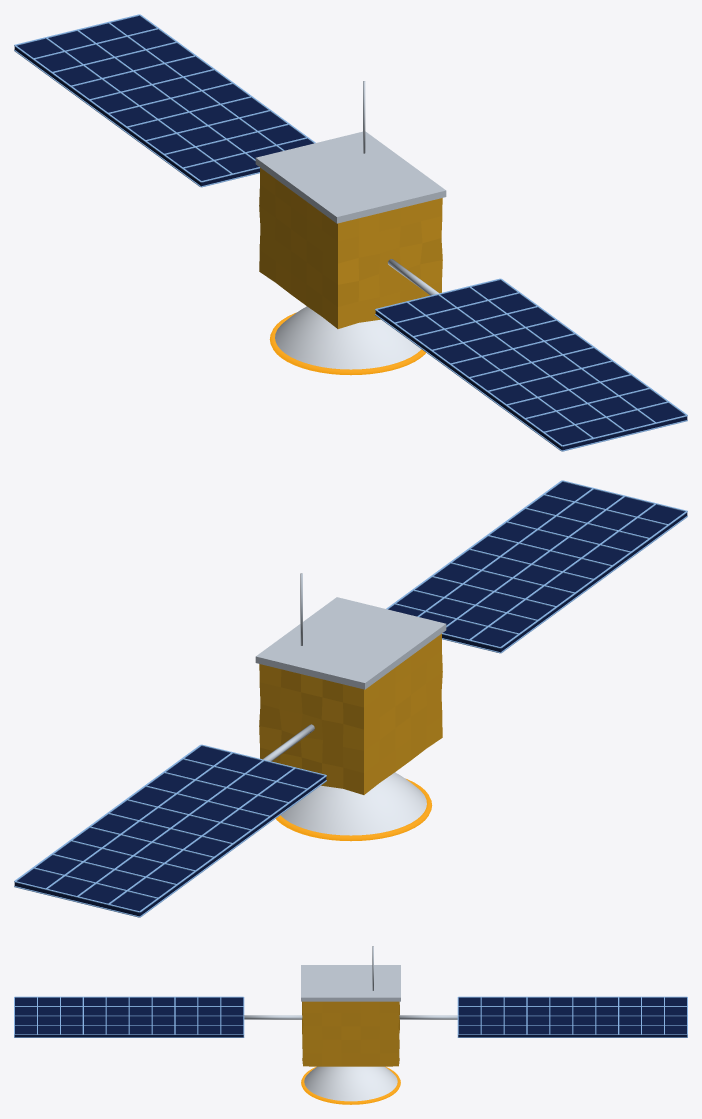
The model's file is leo_satellite.glb.
3 views of the same model, one above another, from view 1: azimuth 30°, elevation 25°; view 2: azimuth 150°, elevation 25°; view 3: azimuth 270°, elevation 25° (orthographic). The views are drawn at different scales.
Parts seen in each view (by area): view 1: SolarWings, GoldFoilCore, SolarCellGrid, TopPlate, TransponderDish, TransponderGlow, Booms; view 2: SolarWings, GoldFoilCore, SolarCellGrid, TopPlate, TransponderDish, TransponderGlow, Booms; view 3: SolarWings, GoldFoilCore, SolarCellGrid, TopPlate, TransponderDish, Booms, TransponderGlow.
Part boxes in pixels (left/top/right/bottom): SolarWings: left=14, top=16, right=687, bottom=450; GoldFoilCore: left=259, top=167, right=442, bottom=328; SolarCellGrid: left=14, top=14, right=687, bottom=451; TopPlate: left=255, top=131, right=446, bottom=223; TransponderDish: left=275, top=306, right=421, bottom=369; TransponderGlow: left=269, top=312, right=425, bottom=375; Booms: left=363, top=81, right=439, bottom=295; SolarWings: left=14, top=482, right=687, bottom=916; GoldFoilCore: left=259, top=633, right=442, bottom=794; SolarCellGrid: left=14, top=480, right=687, bottom=917; TopPlate: left=255, top=597, right=446, bottom=689; TransponderDish: left=280, top=772, right=426, bottom=835; TransponderGlow: left=276, top=778, right=432, bottom=841; Booms: left=262, top=573, right=314, bottom=761; SolarWings: left=14, top=997, right=687, bottom=1037; GoldFoilCore: left=302, top=1001, right=399, bottom=1066; SolarCellGrid: left=14, top=996, right=687, bottom=1037; TopPlate: left=301, top=965, right=400, bottom=1001; TransponderDish: left=304, top=1066, right=397, bottom=1101; Booms: left=243, top=946, right=458, bottom=1019; TransponderGlow: left=301, top=1066, right=400, bottom=1104.
Size of the model in its own units: 2.7 by 4.77 by 18.23.
